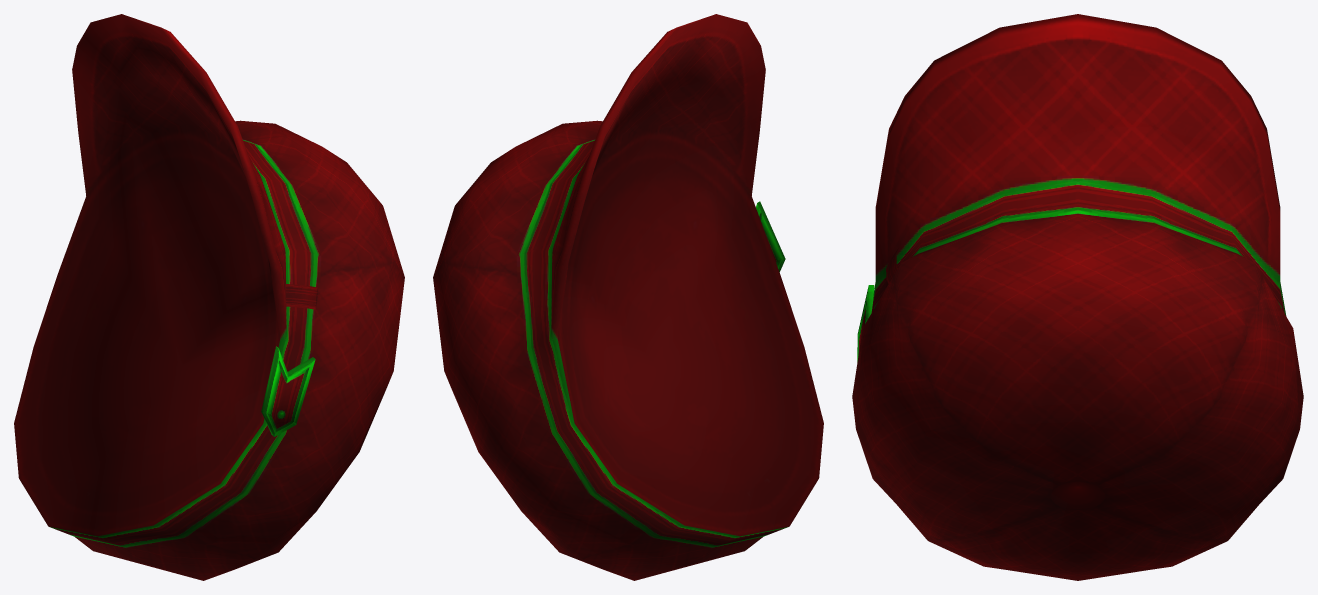
The picture shows the model from 3 angles, left to right: view 1: azimuth 30°, elevation 25°; view 2: azimuth 150°, elevation 25°; view 3: azimuth 270°, elevation 25°; orthographic projection. The views are drawn at different scales.
Parts seen in each view (by area): view 1: C1127; view 2: C1127; view 3: C1127.
Part boxes in pixels (box(x1,y1,x2,y2)): C1127: box(14, 14, 404, 580); C1127: box(433, 14, 823, 580); C1127: box(852, 14, 1303, 580).
Bounding box in the file's own units: 0.3776 × 0.6197 × 0.4571.
